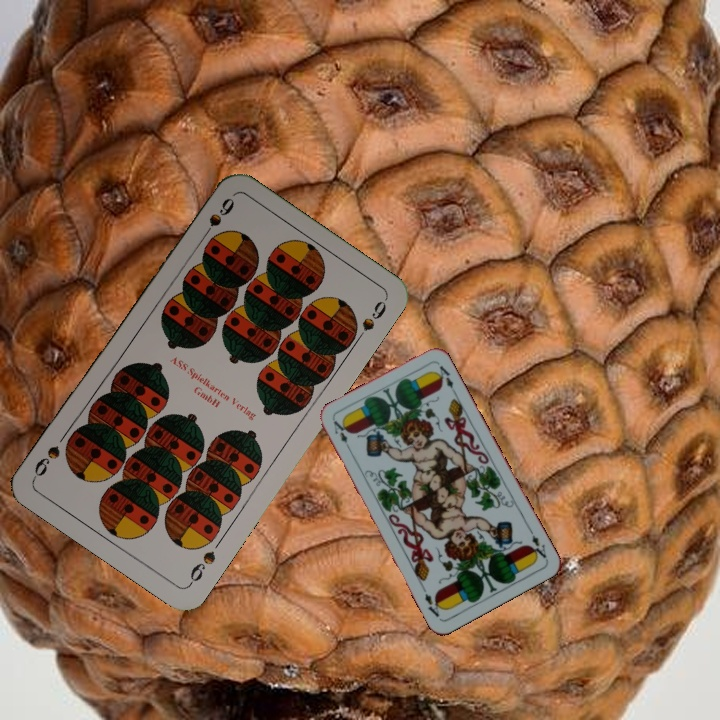EA: (329, 416, 354, 454), (525, 524, 549, 562)
S9: (196, 193, 237, 245), (185, 546, 219, 588)
